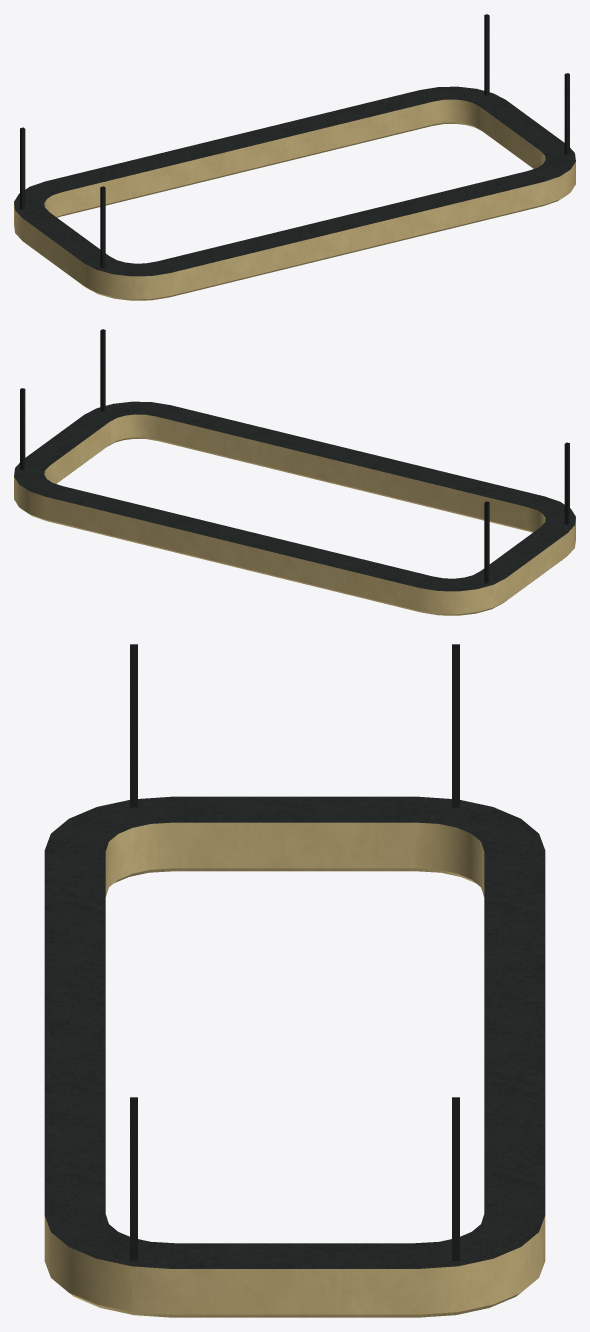
Rendered from pendant_light_4.glb.
3 renders of one model, top to bottom at view 1: azimuth 30°, elevation 25°; view 2: azimuth 150°, elevation 25°; view 3: azimuth 270°, elevation 25°, orthographic. The views are drawn at different scales.
Parts seen in each view (by area): view 1: pendant_light_4; view 2: pendant_light_4; view 3: pendant_light_4.
Part boxes in pixels (bbox=[...]): pendant_light_4: bbox=[14, 14, 575, 300]; pendant_light_4: bbox=[14, 329, 575, 615]; pendant_light_4: bbox=[44, 644, 545, 1317].
Size of what is drawn, in the model's own units: 14.88 by 3.17 by 6.67.
Materials: 3 (2 with a texture image).
